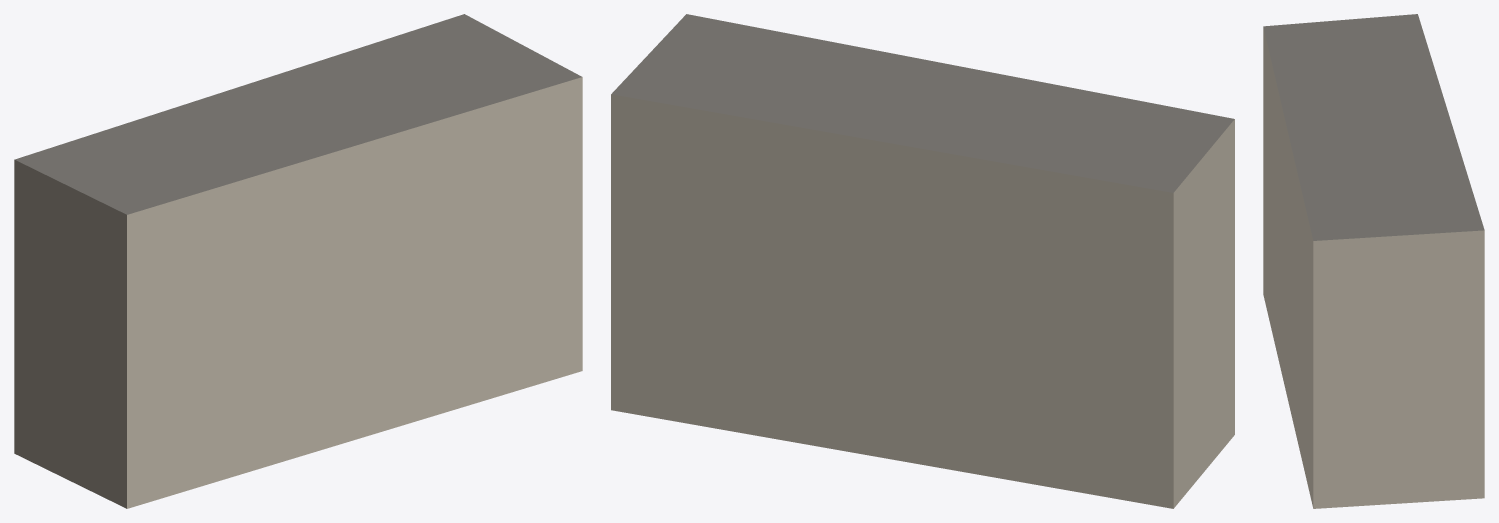
3 views of the same model, side by side, from view 1: azimuth 30°, elevation 25°; view 2: azimuth 150°, elevation 25°; view 3: azimuth 270°, elevation 25° (orthographic). The views are drawn at different scales.
Parts seen in each view (by area): view 1: HP-w1070642157; view 2: HP-w1070642157; view 3: HP-w1070642157.
Part boxes in pixels (x1,y1,x2,y2): HP-w1070642157: (14,14,582,508); HP-w1070642157: (611,14,1234,508); HP-w1070642157: (1263,14,1484,508).
Size of the model in its own units: 32.71 by 18 by 13.48.
